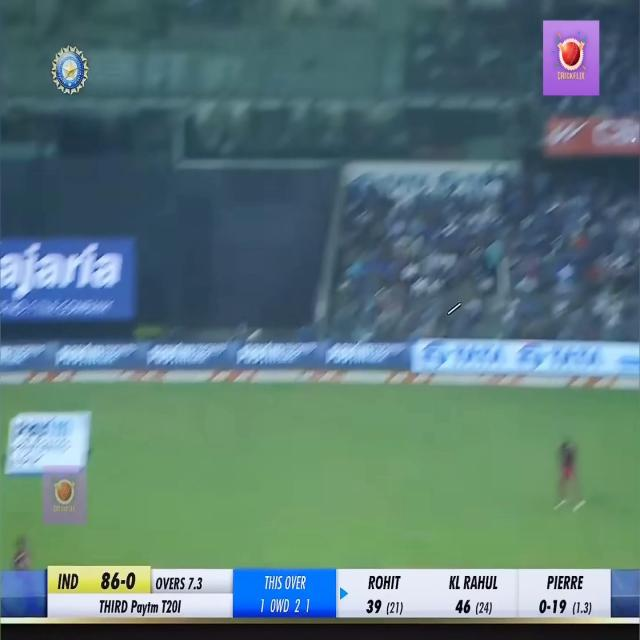fully_visible: (128, 597, 160, 617)
partially_visible: (10, 410, 76, 444)
